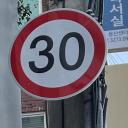speed_limit_30: (6, 5, 112, 105)
